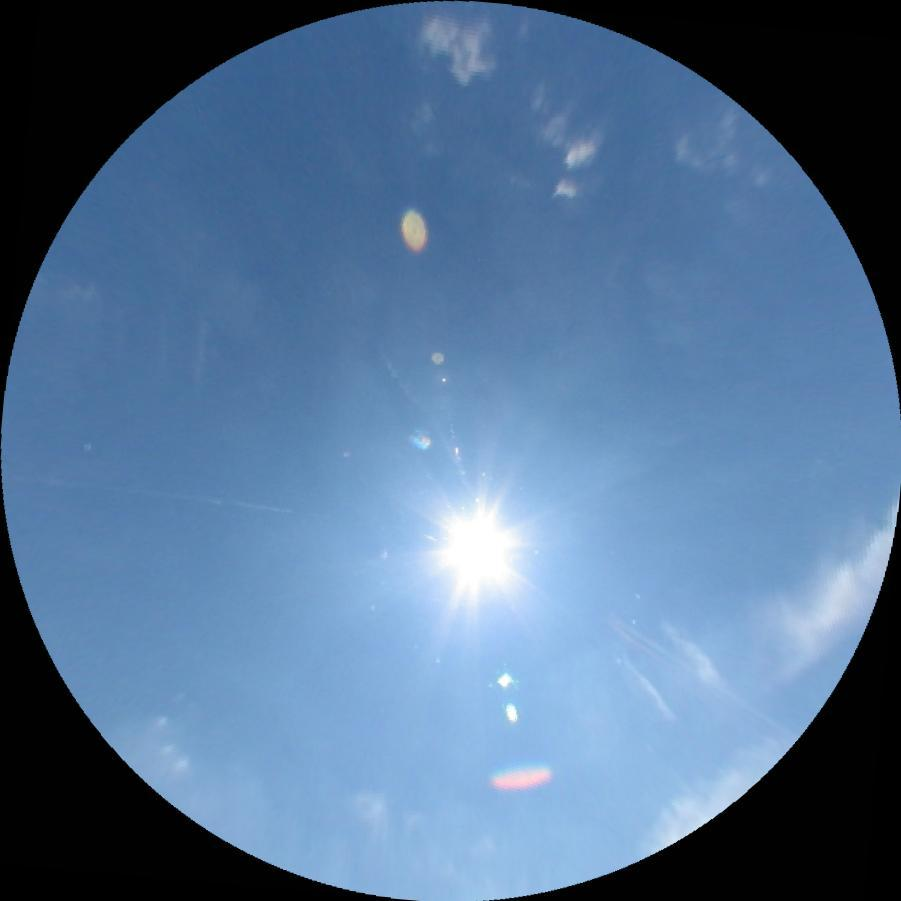contrail old: (623, 656, 679, 724)
parasite: (609, 612, 800, 741), (0, 471, 292, 513), (609, 623, 669, 666)
sun: (427, 497, 524, 597)
